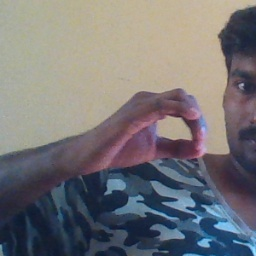O: (77, 84, 212, 176)
